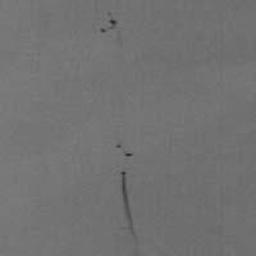Inclusion: (118, 170, 141, 243), (99, 10, 119, 35), (114, 142, 136, 159)
